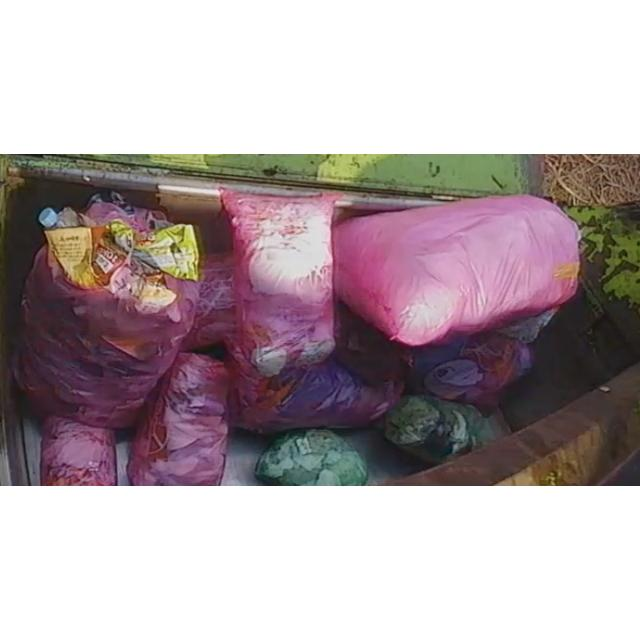general_trashbag: (385, 395, 510, 463), (255, 430, 368, 486)
other_trashbag: (19, 193, 200, 429), (332, 195, 579, 346), (335, 303, 532, 415), (221, 189, 336, 377), (130, 353, 229, 486), (231, 356, 401, 432), (42, 416, 116, 486)
